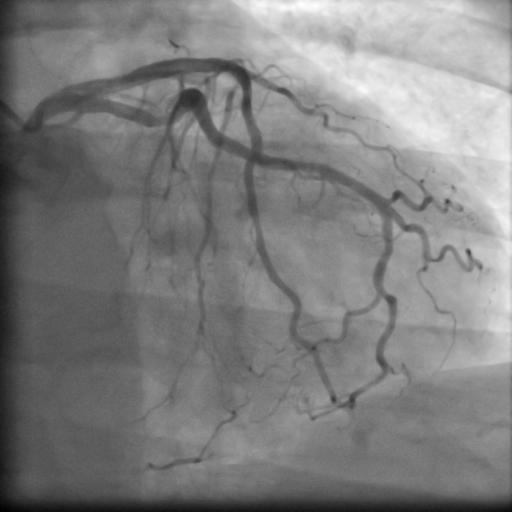Stenosis: (152, 110, 167, 124)
